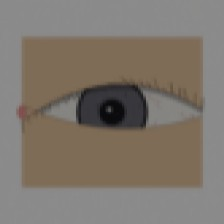pterygium_lesion: (24, 100, 54, 124)
